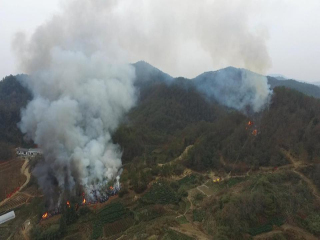smoke: (16, 5, 136, 202), (194, 4, 277, 118)
